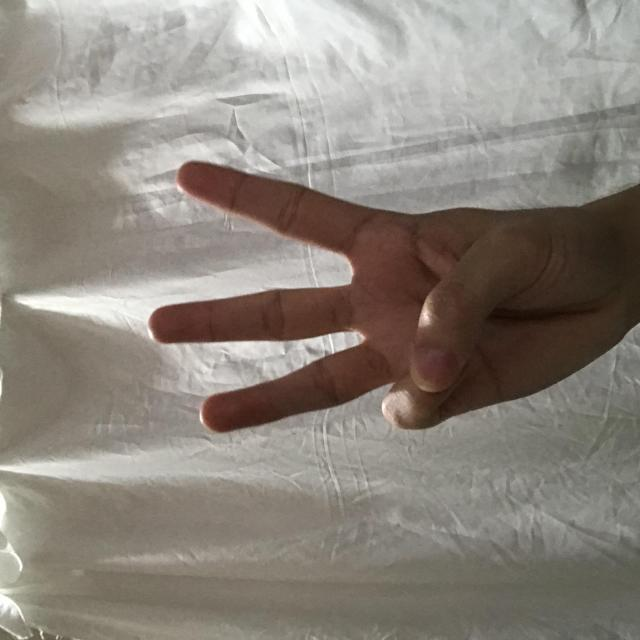W: (208, 147, 482, 604)
